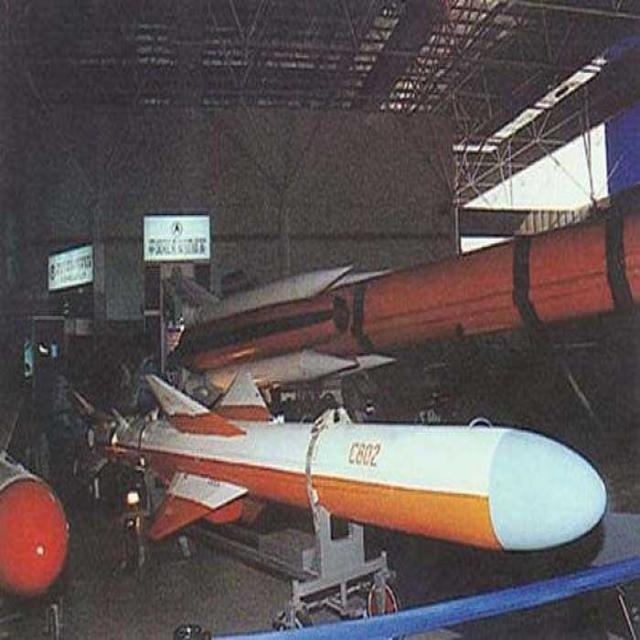missile: (75, 368, 612, 560), (143, 199, 640, 385)
